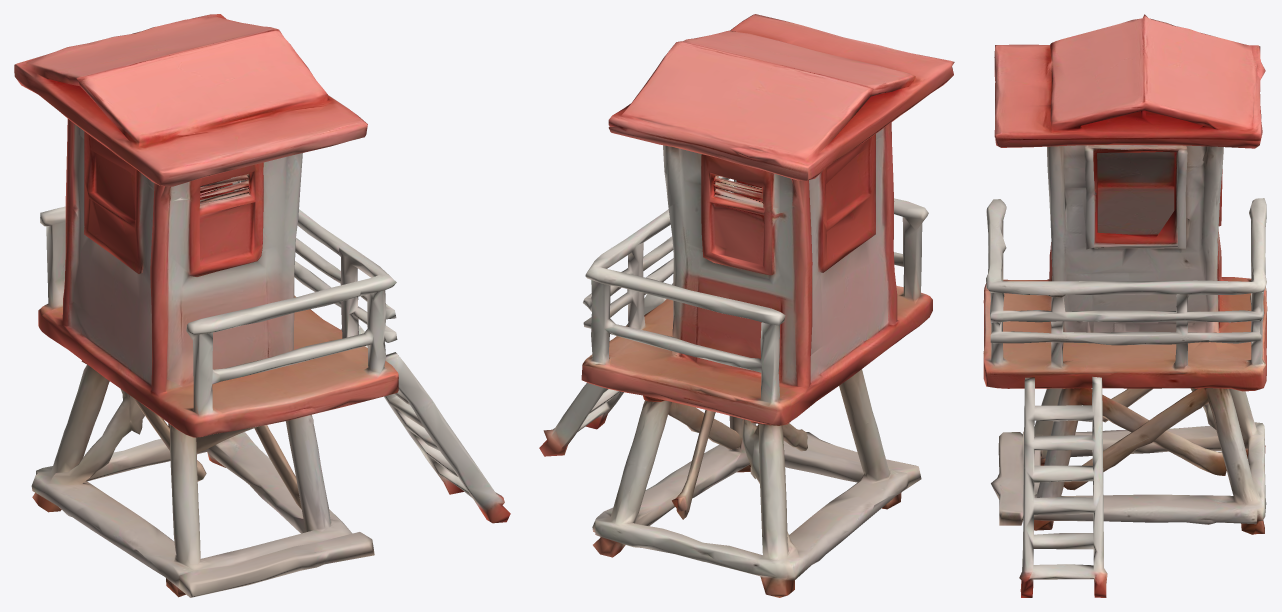
File: lifeguard_tower.glb
The picture shows the model from 3 angles, left to right: view 1: azimuth 30°, elevation 25°; view 2: azimuth 150°, elevation 25°; view 3: azimuth 270°, elevation 25°; orthographic projection. The views are drawn at different scales.
Parts seen in each view (by area): view 1: tripo_node_2427aa87-2462-4df5-9c79-5dd62e54cadb; view 2: tripo_node_2427aa87-2462-4df5-9c79-5dd62e54cadb; view 3: tripo_node_2427aa87-2462-4df5-9c79-5dd62e54cadb.
Boxes of the visible parts, x1=… form: tripo_node_2427aa87-2462-4df5-9c79-5dd62e54cadb: x1=14, y1=14, x2=510, y2=597; tripo_node_2427aa87-2462-4df5-9c79-5dd62e54cadb: x1=539, y1=14, x2=954, y2=597; tripo_node_2427aa87-2462-4df5-9c79-5dd62e54cadb: x1=983, y1=14, x2=1267, y2=597.
Bounding box in the file's own units: 0.7944 × 1 × 0.6012.
Materials: 1 (1 with a texture image).
